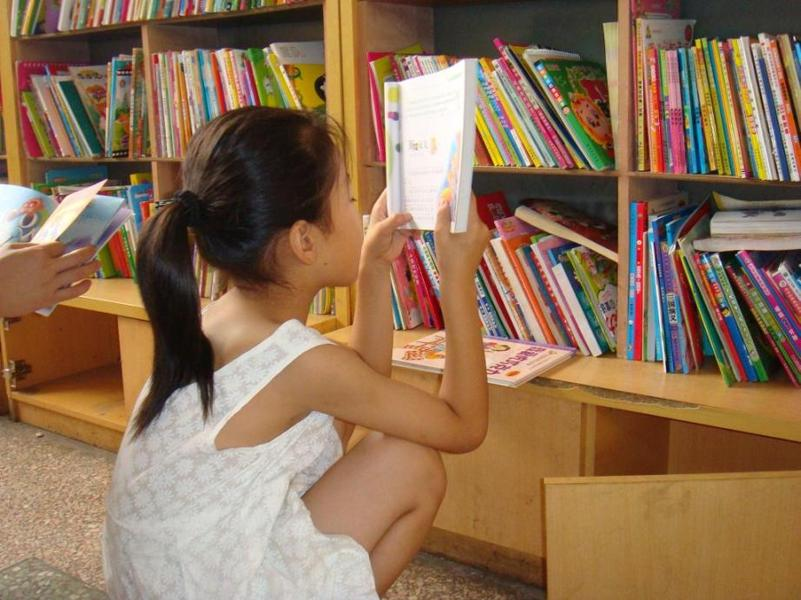person: (105, 105, 492, 600)
